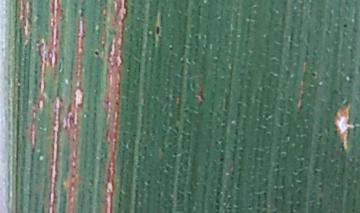tarspot: (153, 8, 162, 47), (92, 45, 102, 62), (309, 68, 320, 82), (341, 18, 351, 31)
